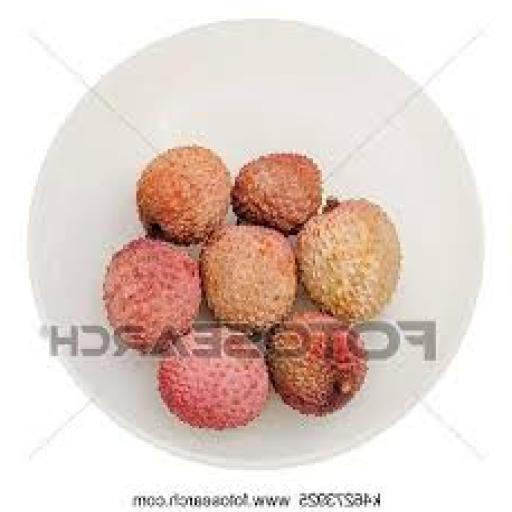lychee: (297, 201, 399, 321), (102, 240, 200, 353), (158, 329, 267, 430), (266, 312, 365, 416), (201, 226, 296, 330), (136, 147, 229, 244), (232, 154, 320, 235)
